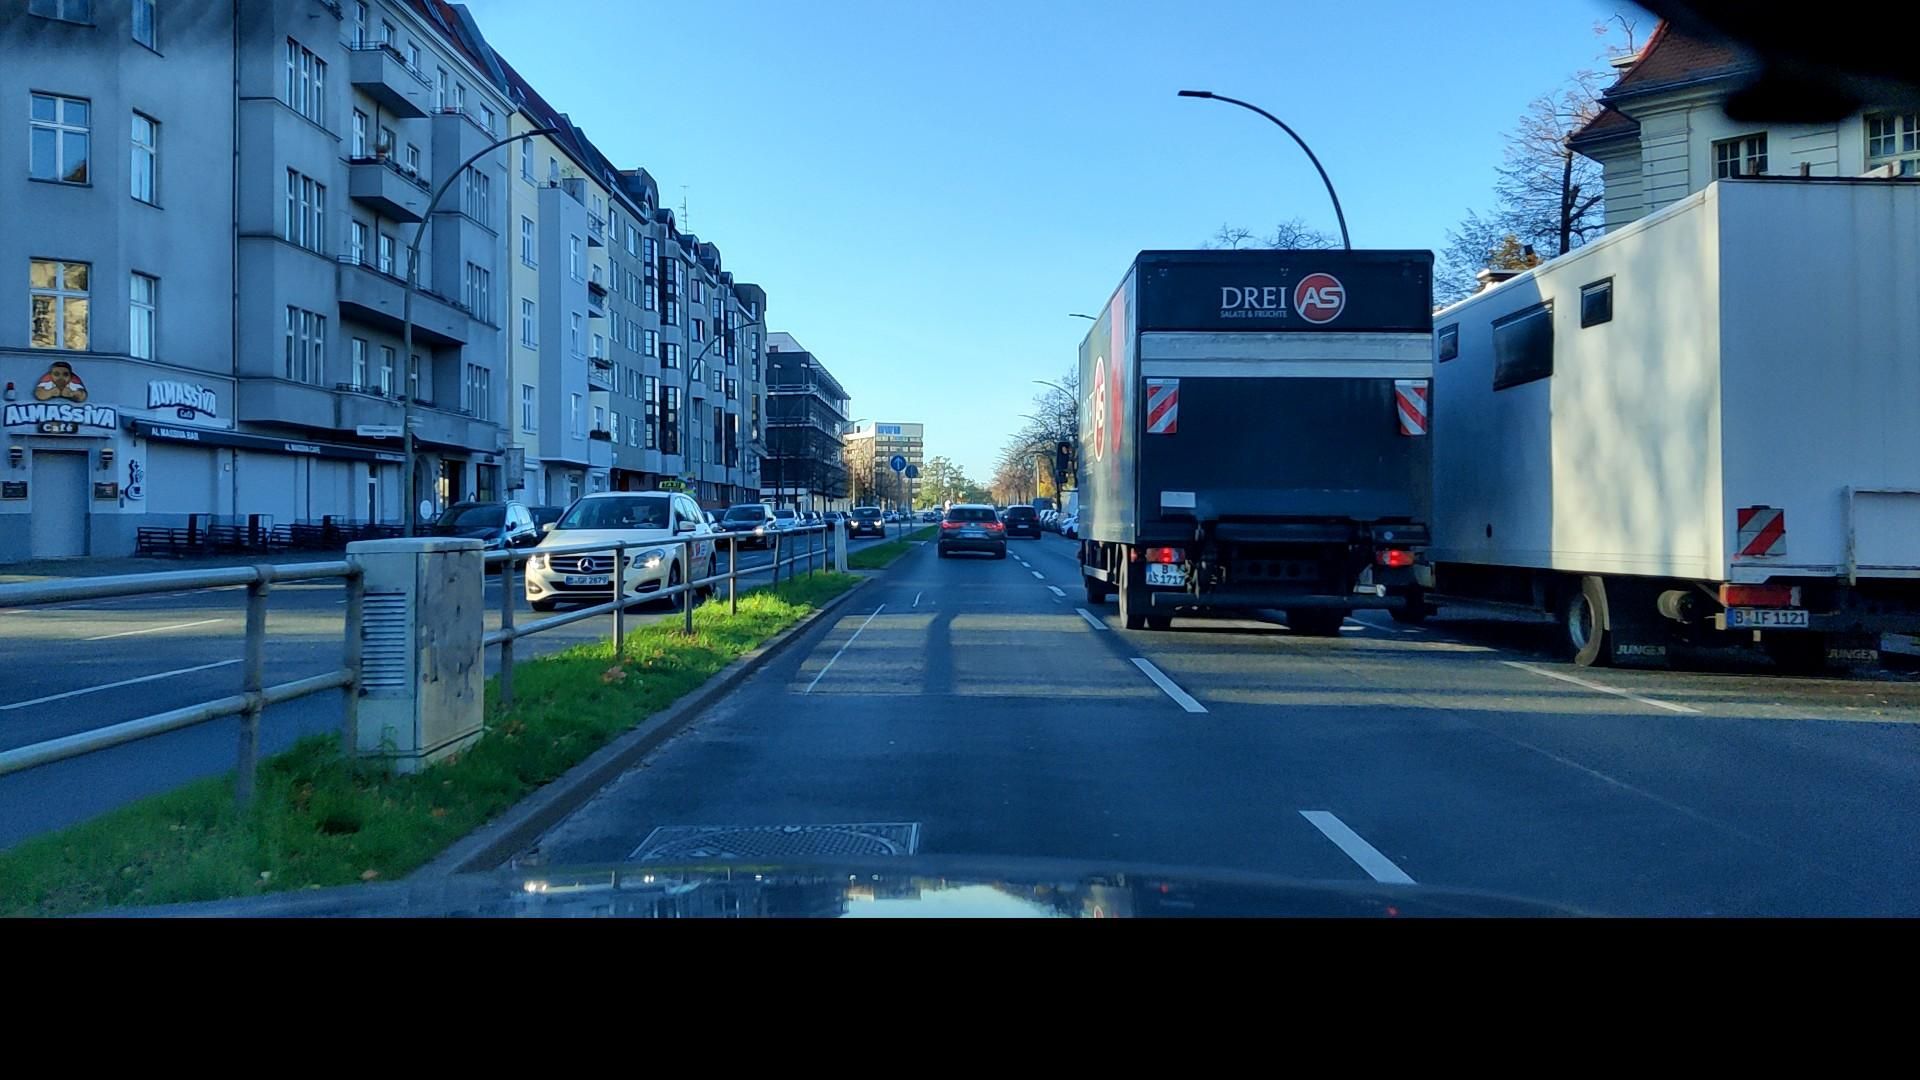Vehicle registration plate: (1725, 607, 1808, 629), (1145, 560, 1189, 587), (565, 574, 607, 587), (960, 531, 985, 538)
